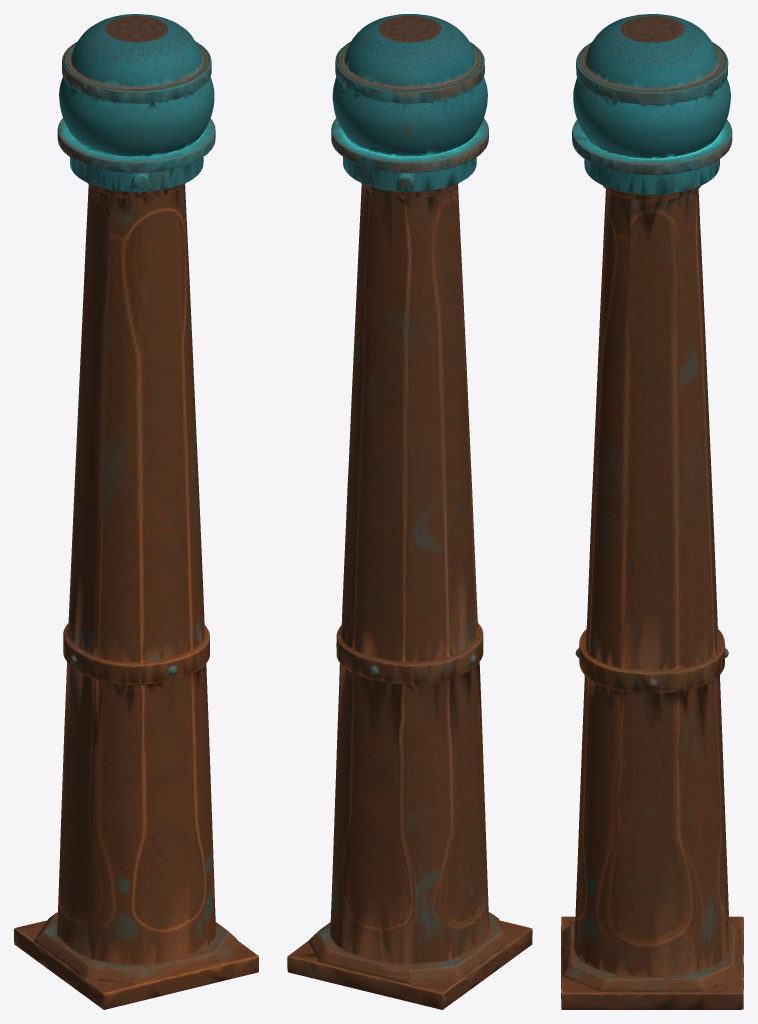
The model's file is pylon.glb.
3 renders of one model, left to right at view 1: azimuth 30°, elevation 25°; view 2: azimuth 150°, elevation 25°; view 3: azimuth 270°, elevation 25°, orthographic.
Bounding box in the file's own units: 0.334 × 1.9 × 0.3343.
1 material, 1 textured.
